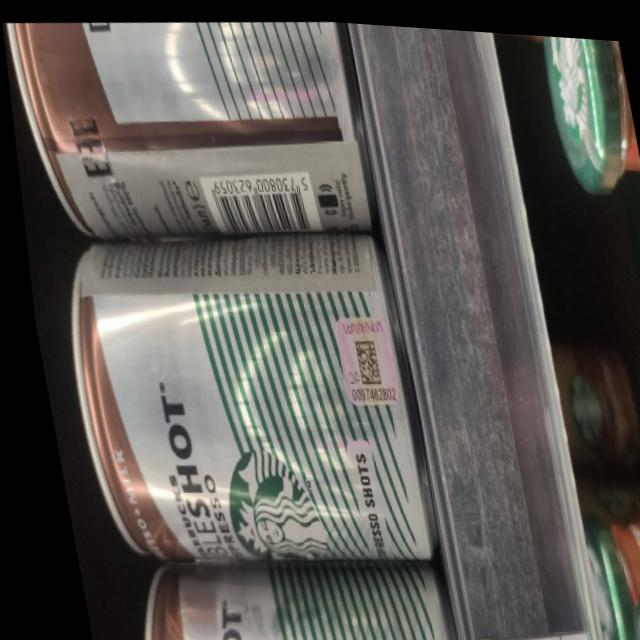datamatrix: (346, 334, 374, 382)
